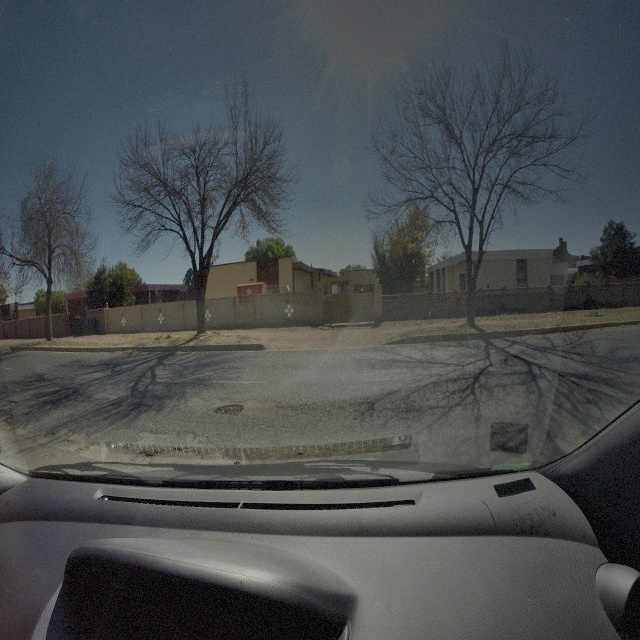pothole: (213, 402, 244, 417), (136, 450, 154, 460)
